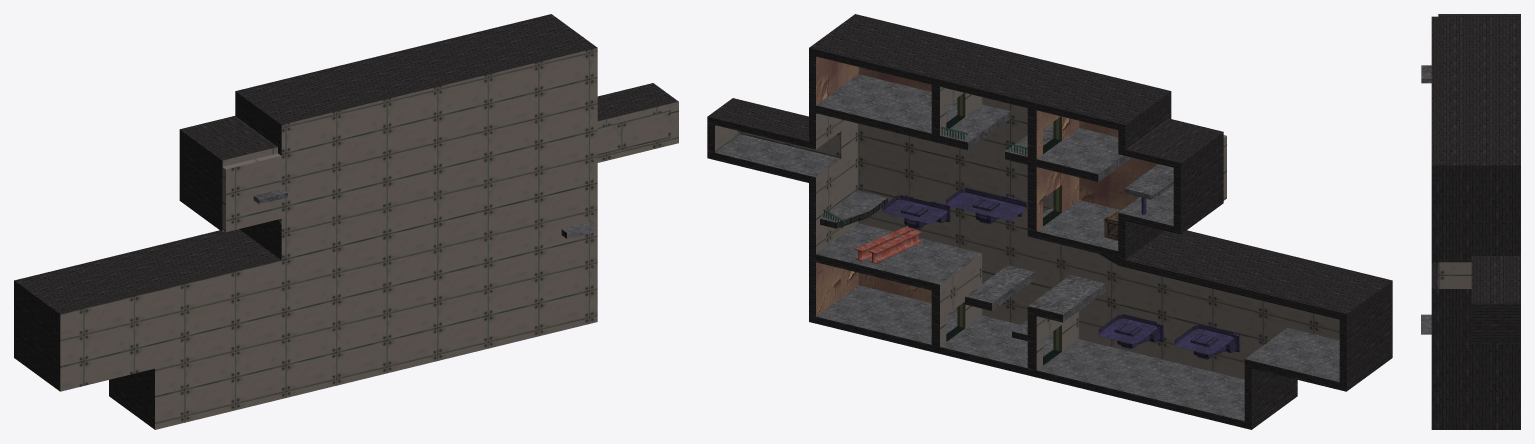
The model's file is spawn_level_v2.glb.
3 views of the same model, side by side, from view 1: azimuth 30°, elevation 25°; view 2: azimuth 150°, elevation 25°; view 3: azimuth 270°, elevation 25° (orthographic). The views are drawn at different scales.
Visible parts, largest first — view 1: SpawnLevelOutline; view 2: SpawnLevelOutline, Platform, Platform2.001, Platform2, Platform1, Balcony, Beams, Balcony.001; view 3: SpawnLevelOutline, Balcony, Balcony.001.
Boxes of the visible parts, left/top/right/bottom form: SpawnLevelOutline: left=14, top=14, right=678, bottom=429; SpawnLevelOutline: left=707, top=14, right=1392, bottom=429; Platform: left=946, top=188, right=1026, bottom=224; Platform2.001: left=1174, top=324, right=1240, bottom=359; Platform2: left=1098, top=314, right=1163, bottom=349; Platform1: left=882, top=195, right=950, bottom=229; Balcony: left=820, top=190, right=887, bottom=228; Beams: left=855, top=226, right=921, bottom=263; Balcony.001: left=1124, top=164, right=1173, bottom=199; SpawnLevelOutline: left=1431, top=14, right=1520, bottom=429; Balcony: left=1421, top=314, right=1431, bottom=334; Balcony.001: left=1421, top=65, right=1431, bottom=83.
Size of the model in its own units: 19.75 by 8.1 by 2.77.
15 materials, 15 textured.
